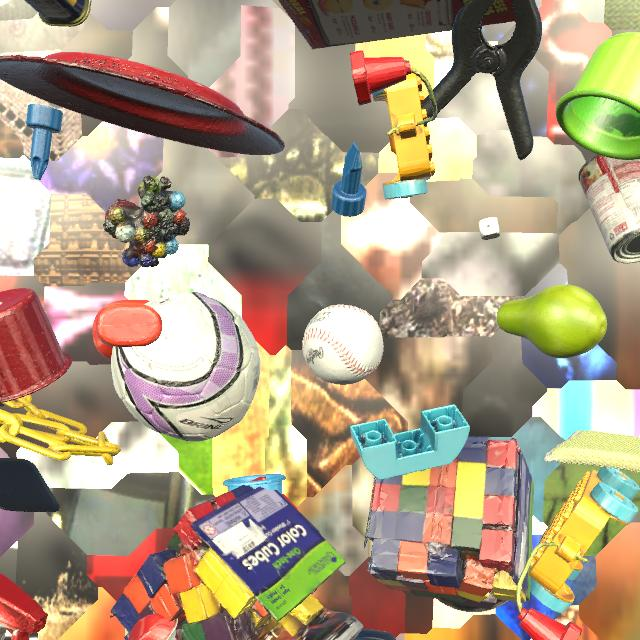ycb_003_cracker_box: (278, 0, 516, 49)
ycb_005_tomato_soup_can: (578, 154, 640, 263)
ycb_010_potted_meat_can: (25, 0, 92, 27)
ycb_016_pear: (496, 284, 607, 358)
